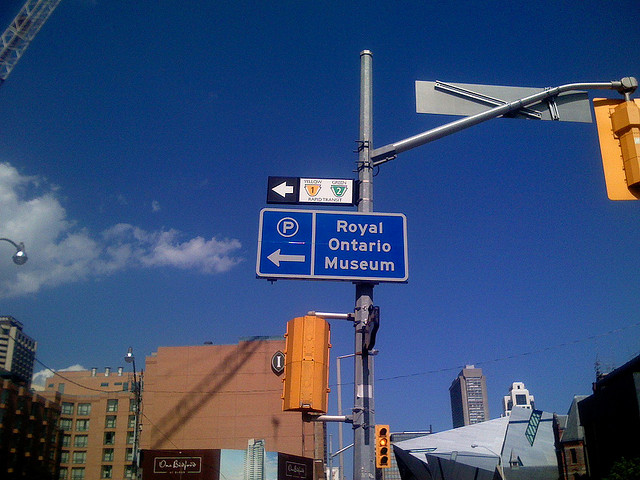Traffic light: (368, 424, 404, 478)
